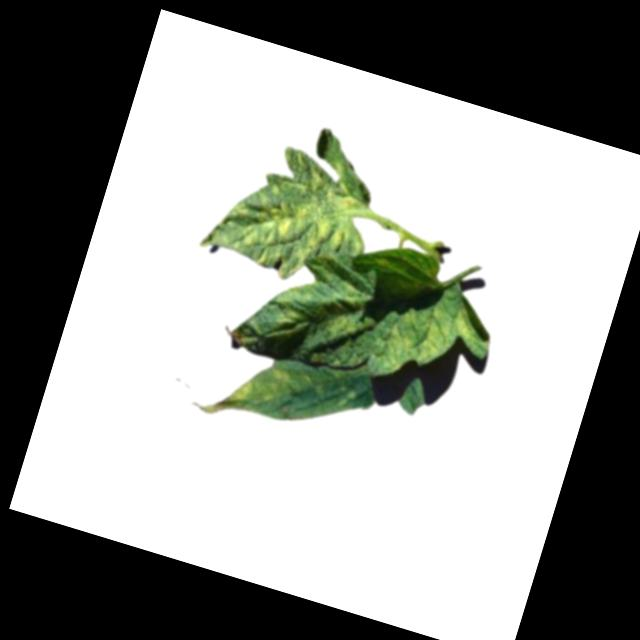Leaf_Mold: (196, 129, 388, 298), (377, 289, 497, 399), (194, 345, 302, 435)
